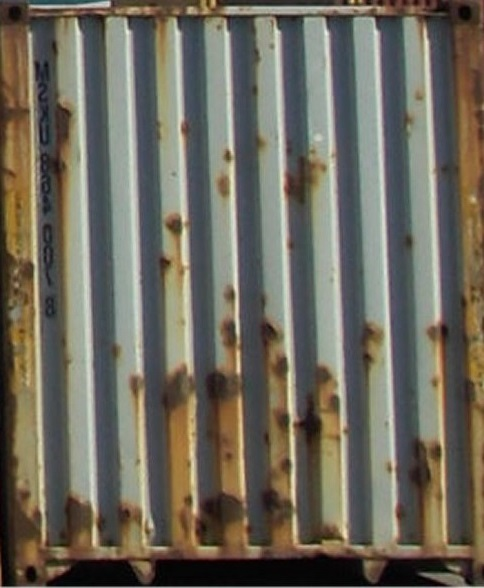container_no_door: (2, 14, 476, 582)
